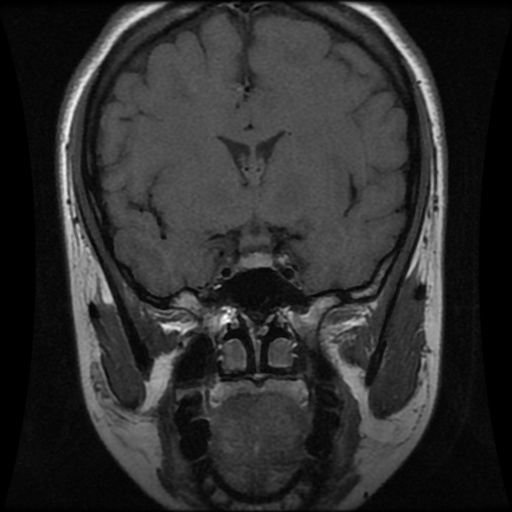pituitary: (241, 250, 276, 268)
